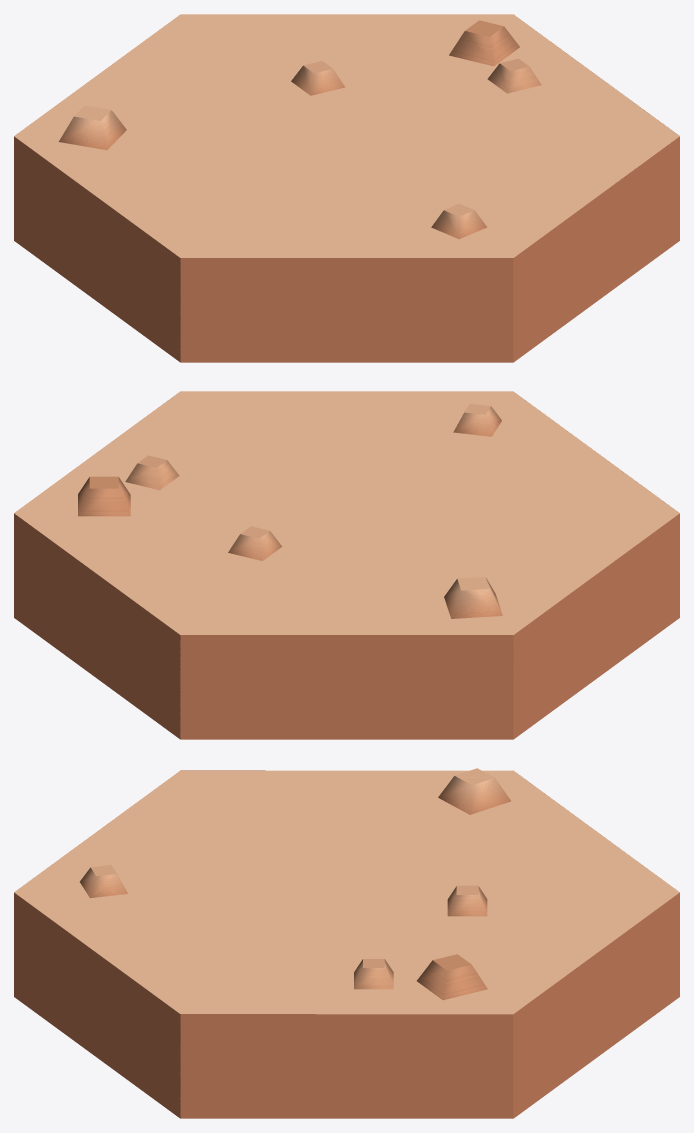
Rendered from sand_rocks.glb.
The picture shows the model from 3 angles, top to bottom: view 1: azimuth 30°, elevation 25°; view 2: azimuth 150°, elevation 25°; view 3: azimuth 270°, elevation 25°; orthographic projection.
Parts seen in each view (by area): view 1: sand-rocks; view 2: sand-rocks; view 3: sand-rocks.
Boxes of the visible parts, x1=… form: sand-rocks: x1=14, y1=14, x2=679, y2=362; sand-rocks: x1=14, y1=391, x2=679, y2=739; sand-rocks: x1=14, y1=768, x2=679, y2=1118.
Size of the model in its own units: 1 by 0.2435 by 1.15.
Materials: 1 (1 with a texture image).
